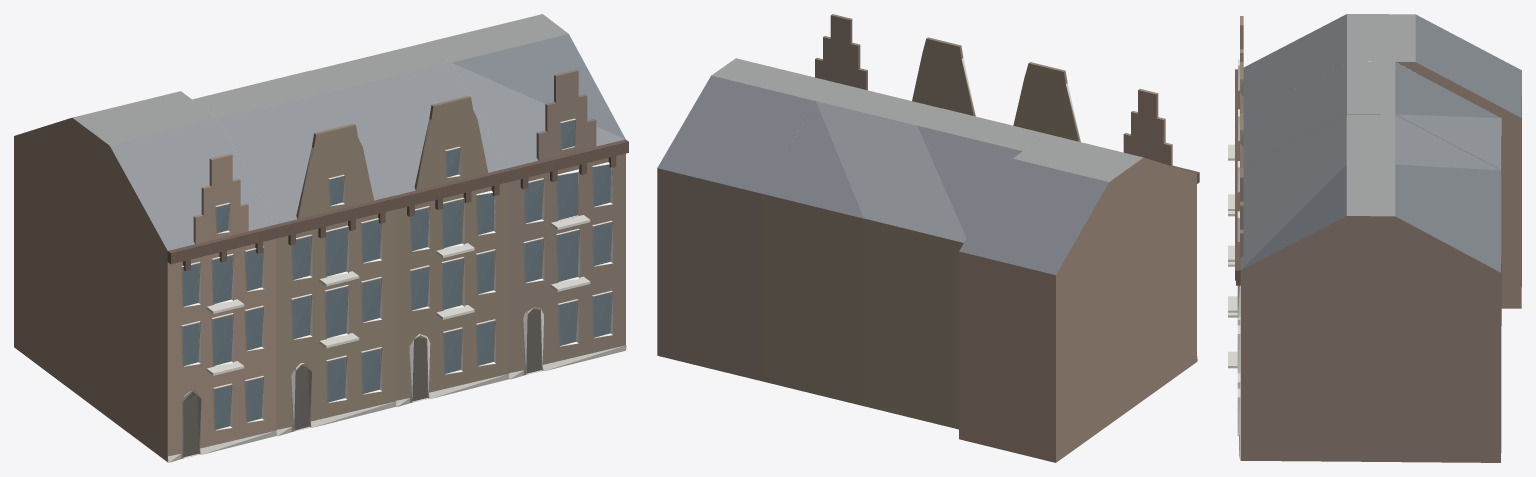
The model's file is chunk-face-bree-107-149-r1.lod2.glb.
3 views of the same model, side by side, from view 1: azimuth 30°, elevation 25°; view 2: azimuth 150°, elevation 25°; view 3: azimuth 270°, elevation 25° (orthographic). The views are drawn at different scales.
Visible parts, largest first — view 1: lod2; view 2: lod2; view 3: lod2.
Boxes of the visible parts, box(x1,y1,x2,y2) form: lod2: box(14, 14, 628, 462); lod2: box(657, 14, 1199, 462); lod2: box(1228, 14, 1521, 462).
Bounding box in the file's own units: 23.82 × 14.34 × 14.54.
